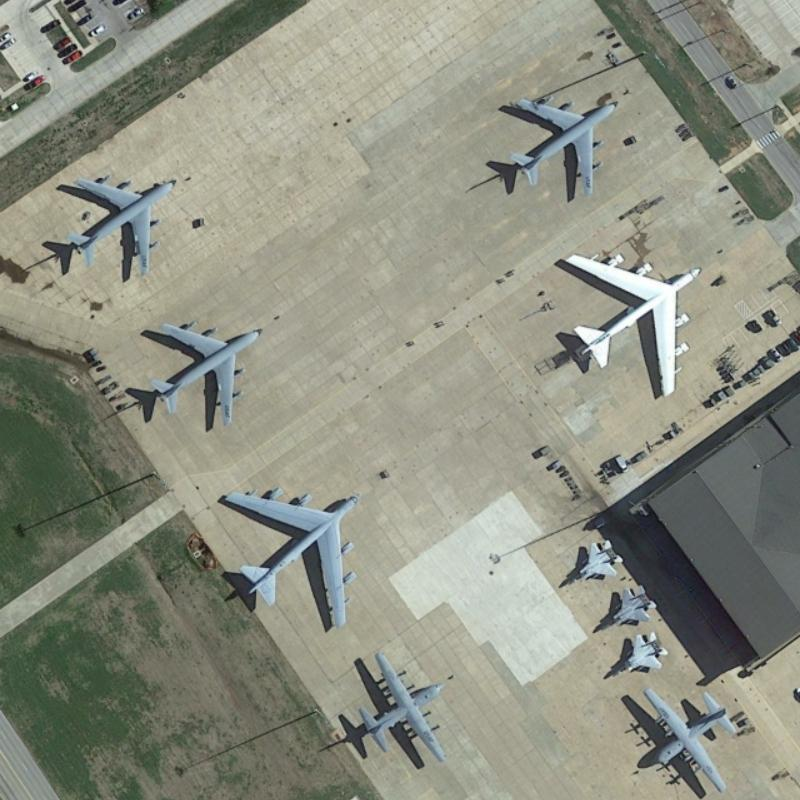A13: (598, 629, 675, 682), (585, 585, 666, 632), (564, 530, 625, 588)
A14: (494, 79, 625, 201), (134, 315, 268, 430), (52, 163, 180, 280)
A2: (341, 643, 460, 768), (625, 679, 748, 794)
A8: (547, 234, 713, 411), (212, 480, 370, 632)
